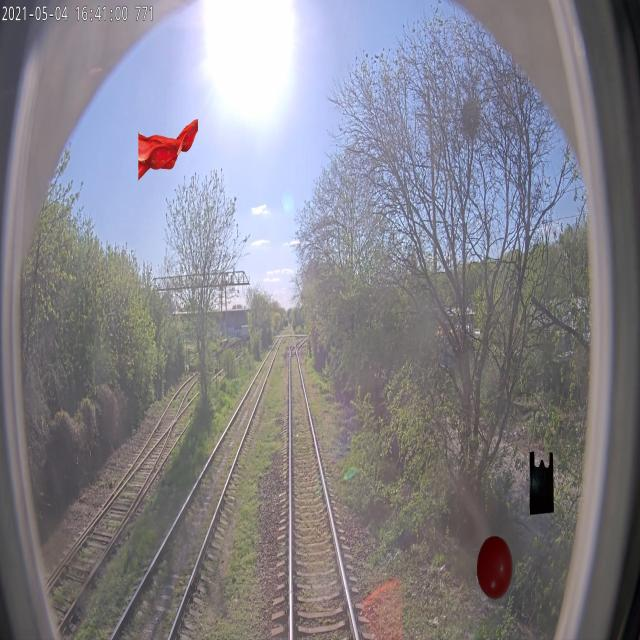balloon: (476, 536, 513, 600)
floating object: (138, 118, 198, 182)
plastic bag: (529, 451, 554, 515)
